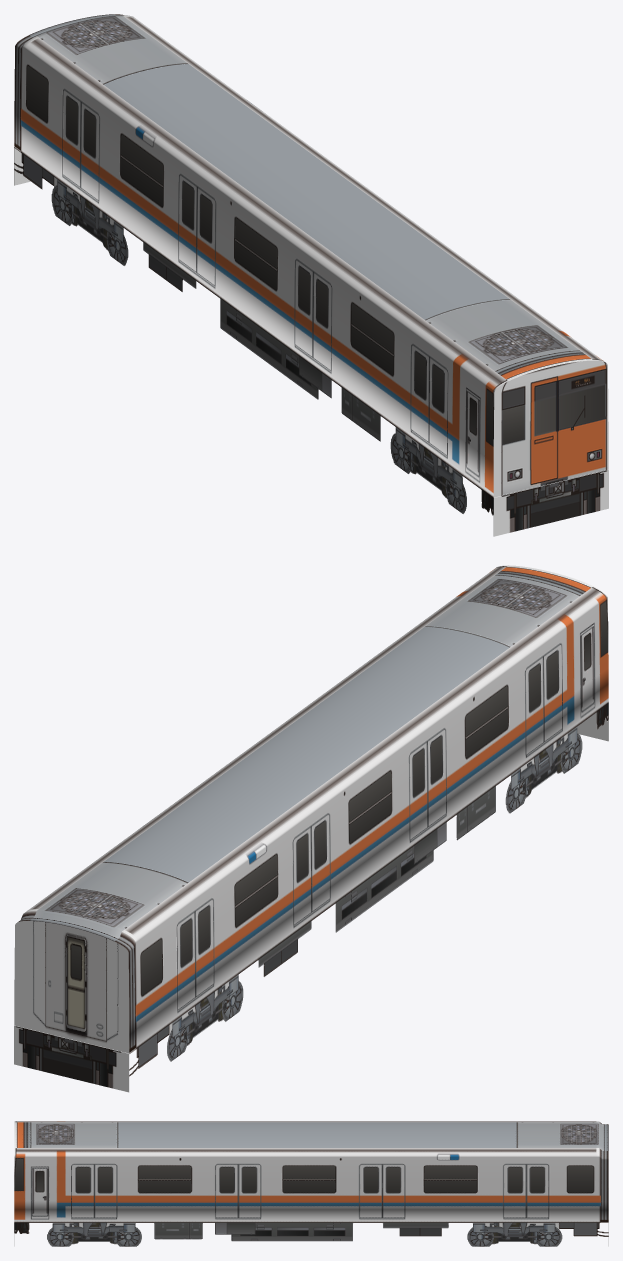
Rendered from car1.glb.
3 views of the same model, one above another, from view 1: azimuth 30°, elevation 25°; view 2: azimuth 150°, elevation 25°; view 3: azimuth 270°, elevation 25° (orthographic). The views are drawn at different scales.
Visible parts, largest first — view 1: kintetsu-7000-car1; view 2: kintetsu-7000-car1; view 3: kintetsu-7000-car1.
Part boxes in pixels (box(x1,y1,x2,y2)): kintetsu-7000-car1: box(14, 14, 608, 536); kintetsu-7000-car1: box(14, 565, 608, 1092); kintetsu-7000-car1: box(14, 1121, 608, 1246).
Size of the model in its own units: 2.9 by 3.74 by 20.93.
8 materials, 7 textured.
